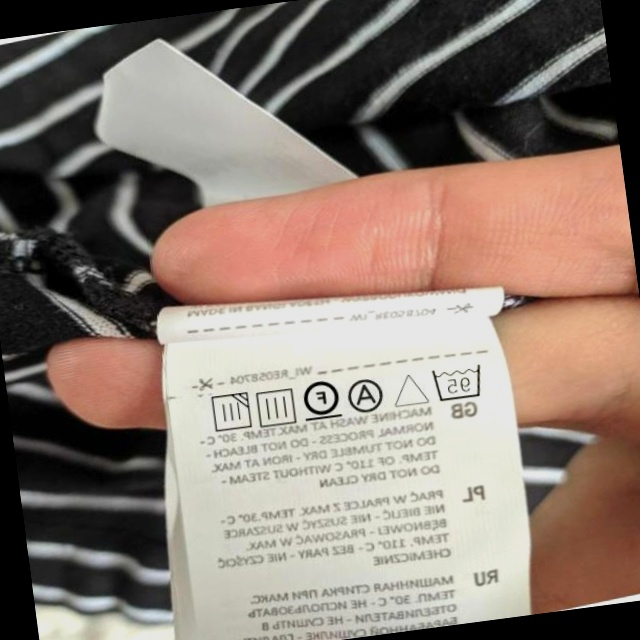95C: (428, 360, 486, 404)
bleach: (391, 367, 429, 411)
drip_dry: (252, 384, 299, 429)
drip_dry_in_shade: (205, 389, 253, 436)
dry_clean: (346, 375, 387, 415)
dry_clean_petrol_only: (300, 374, 342, 423)
